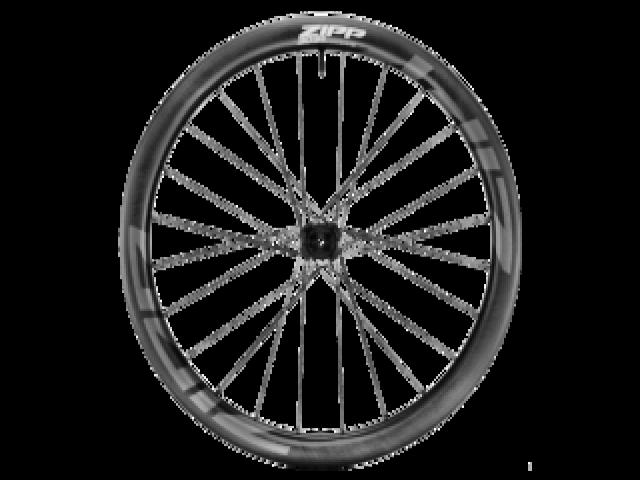wheel: (117, 14, 524, 470)
